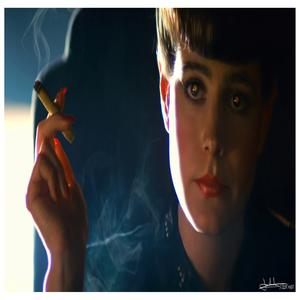cigarette: (30, 80, 59, 114)
